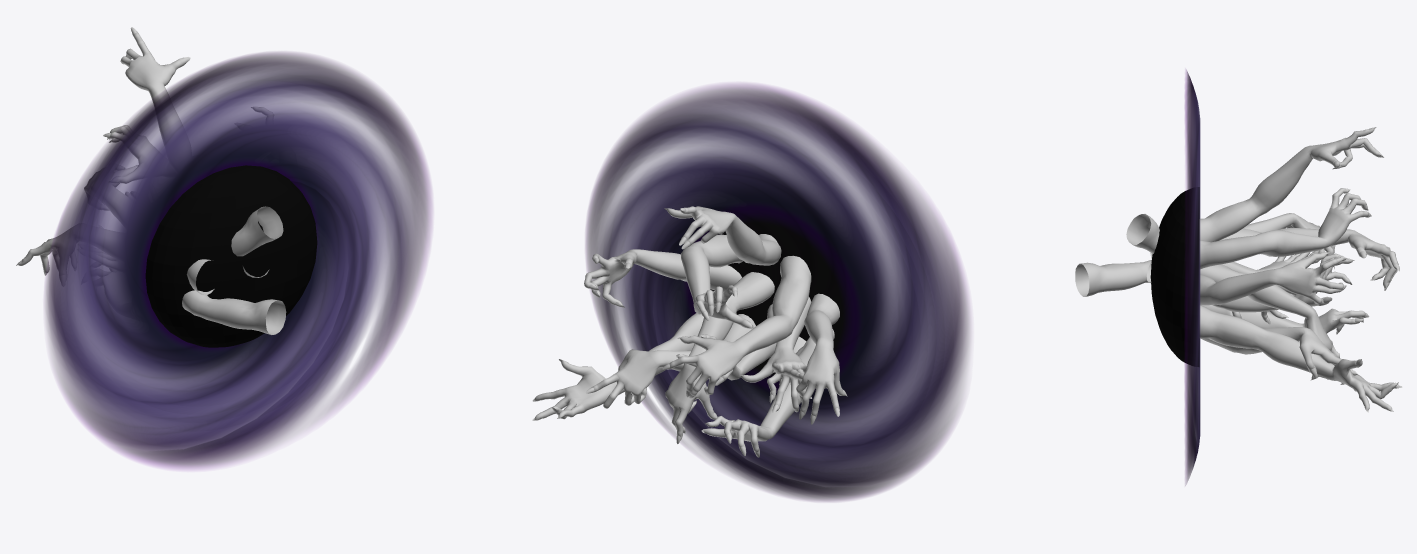
The picture shows the model from 3 angles, left to right: view 1: azimuth 30°, elevation 25°; view 2: azimuth 150°, elevation 25°; view 3: azimuth 270°, elevation 25°; orthographic projection. The views are drawn at different scales.
Visible parts, largest first — view 1: vortex, Sphere, arm_lowres.007, arm_lowres.001, arm_lowres.010, arm_lowres.004, arm_lowres.013, arm_lowres.005; view 2: vortex, arm_lowres.005, arm_lowres.010, arm_lowres.008, arm_lowres.013, arm_lowres.001, arm_lowres, arm_lowres.006, arm_lowres.011, arm_lowres.002, arm_lowres.004, arm_lowres.007 (+1 smaller); view 3: Sphere, vortex, arm_lowres.006, arm_lowres.001, arm_lowres.013, arm_lowres, arm_lowres.007, arm_lowres.008, arm_lowres.005, arm_lowres.004, arm_lowres.011, arm_lowres.002 (+2 smaller).
Boxes of the visible parts, box(x1,y1,x2,y2) form: vortex: box(45, 52, 431, 469); Sphere: box(145, 165, 317, 347); arm_lowres.007: box(182, 290, 286, 334); arm_lowres.001: box(120, 27, 190, 147); arm_lowres.010: box(16, 225, 214, 295); arm_lowres.004: box(97, 206, 283, 269); arm_lowres.013: box(103, 125, 158, 183); arm_lowres.005: box(84, 165, 137, 222); vortex: box(585, 83, 970, 501); arm_lowres.005: box(662, 255, 811, 398); arm_lowres.010: box(796, 293, 847, 424); arm_lowres.008: box(665, 272, 774, 443); arm_lowres.013: box(681, 234, 753, 328); arm_lowres.001: box(664, 206, 781, 265); arm_lowres: box(584, 249, 741, 307); arm_lowres.006: box(532, 313, 736, 420); arm_lowres.011: box(586, 314, 755, 408); arm_lowres.002: box(701, 336, 807, 457); arm_lowres.004: box(738, 296, 811, 382); arm_lowres.007: box(767, 329, 834, 412); Sphere: box(1150, 187, 1199, 366); vortex: box(1185, 70, 1200, 485); arm_lowres.006: box(1200, 305, 1402, 412); arm_lowres.001: box(1199, 127, 1383, 242); arm_lowres.013: box(1200, 188, 1371, 269); arm_lowres: box(1200, 252, 1346, 305); arm_lowres.007: box(1075, 260, 1288, 324); arm_lowres.008: box(1200, 264, 1339, 380); arm_lowres.005: box(1220, 228, 1399, 290); arm_lowres.004: box(1126, 214, 1318, 295); arm_lowres.011: box(1200, 327, 1358, 384); arm_lowres.002: box(1202, 305, 1369, 334).
Bounding box in the file's own units: 2.02 × 2.02 × 1.26.
